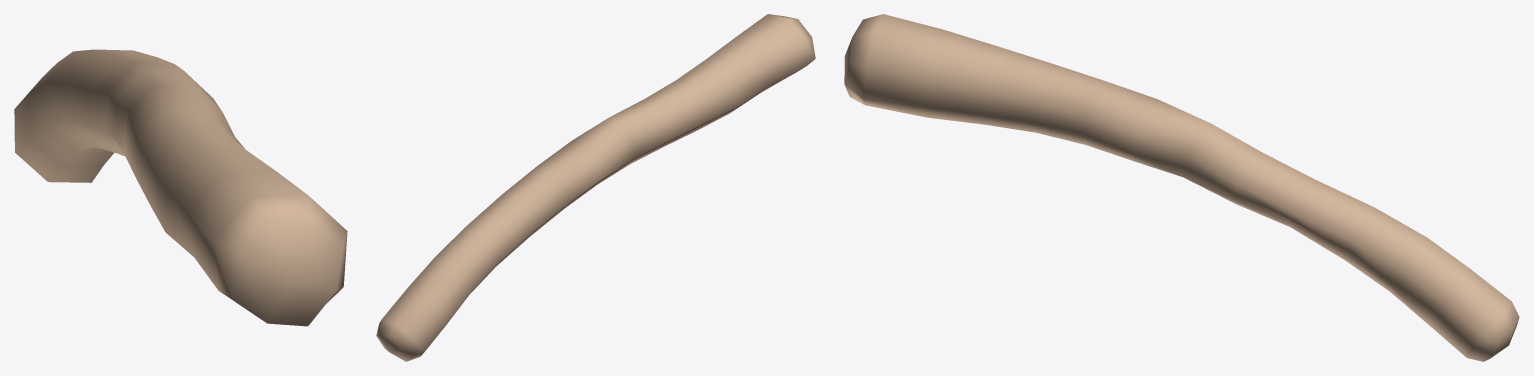
3 views of the same model, side by side, from view 1: azimuth 30°, elevation 25°; view 2: azimuth 150°, elevation 25°; view 3: azimuth 270°, elevation 25° (orthographic). The views are drawn at different scales.
Parts seen in each view (by area): view 1: 右侧胫骨前肌腱鞘; view 2: 右侧胫骨前肌腱鞘; view 3: 右侧胫骨前肌腱鞘.
Part boxes in pixels (<box>): 右侧胫骨前肌腱鞘: <box>14,49,347,326</box>; 右侧胫骨前肌腱鞘: <box>376,14,815,361</box>; 右侧胫骨前肌腱鞘: <box>844,14,1519,361</box>.
Bounding box in the file's own units: 0.0443 × 0.0447 × 0.1078.
